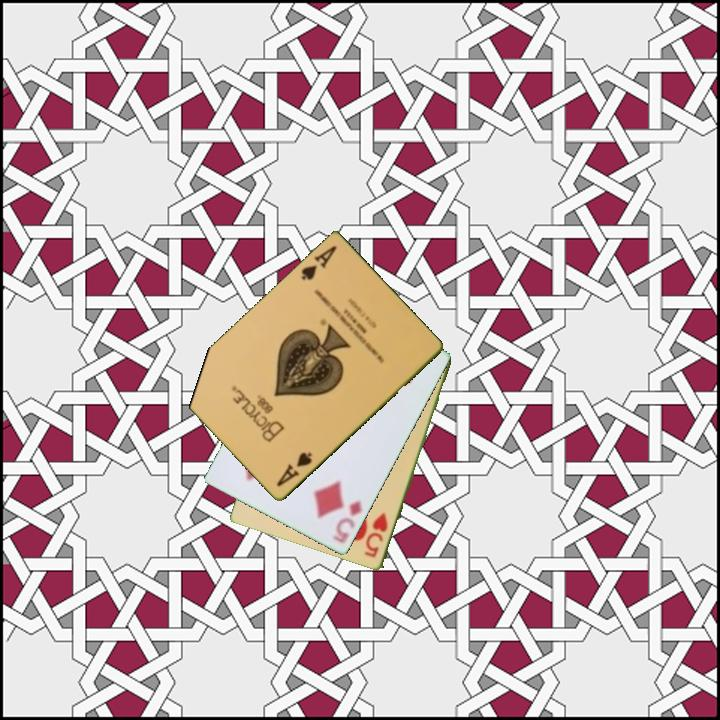5d: (329, 497, 365, 546)
5h: (361, 509, 391, 561)
As: (297, 242, 340, 284), (273, 449, 315, 490)
